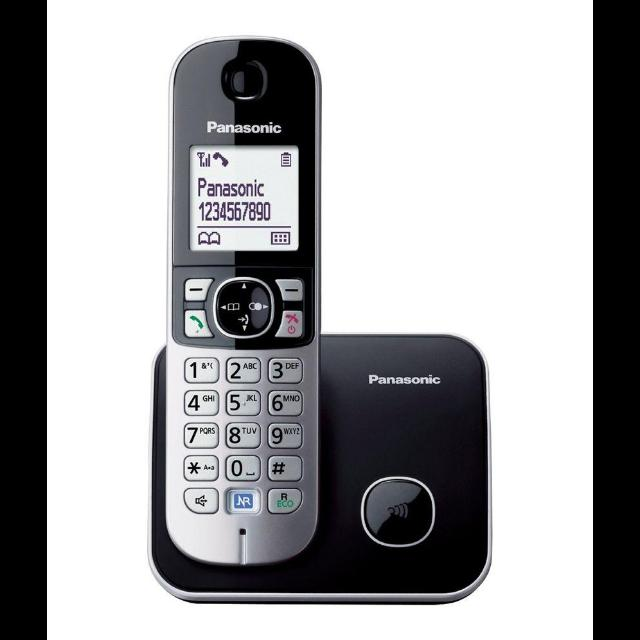Telephone-Set: (122, 8, 594, 640)
